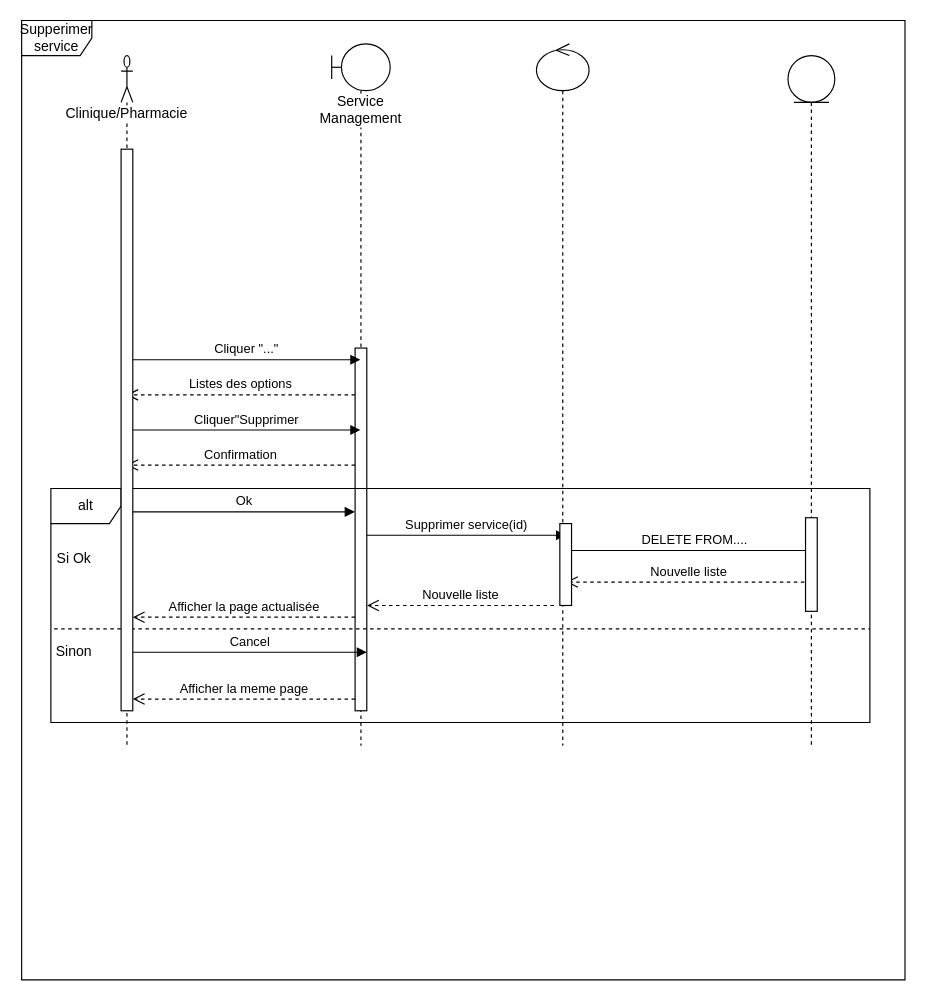
The diagram is 925 pixels wide and 1000 high, and some of its shapes have lost their labels. The box of each missing label's shape, as (x1, y1, x2, y2) in pixels:
Service: (787, 54, 835, 746)
Service Management controller: (535, 43, 589, 746)
